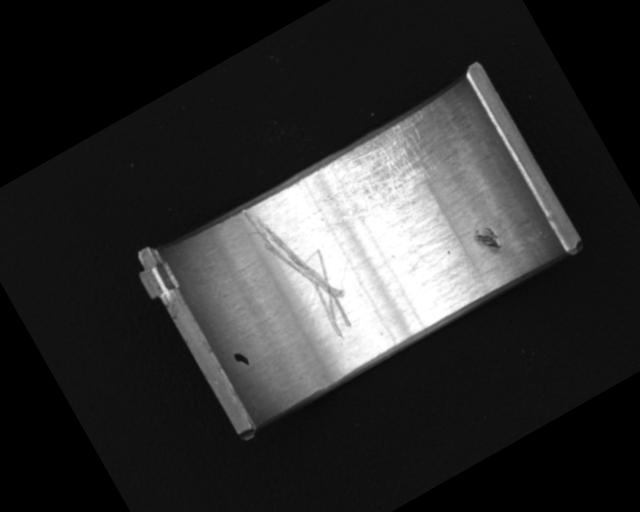blot: (230, 347, 252, 371)
bruise: (470, 221, 506, 259)
nick: (238, 185, 363, 352)
scratch: (298, 110, 454, 242)
